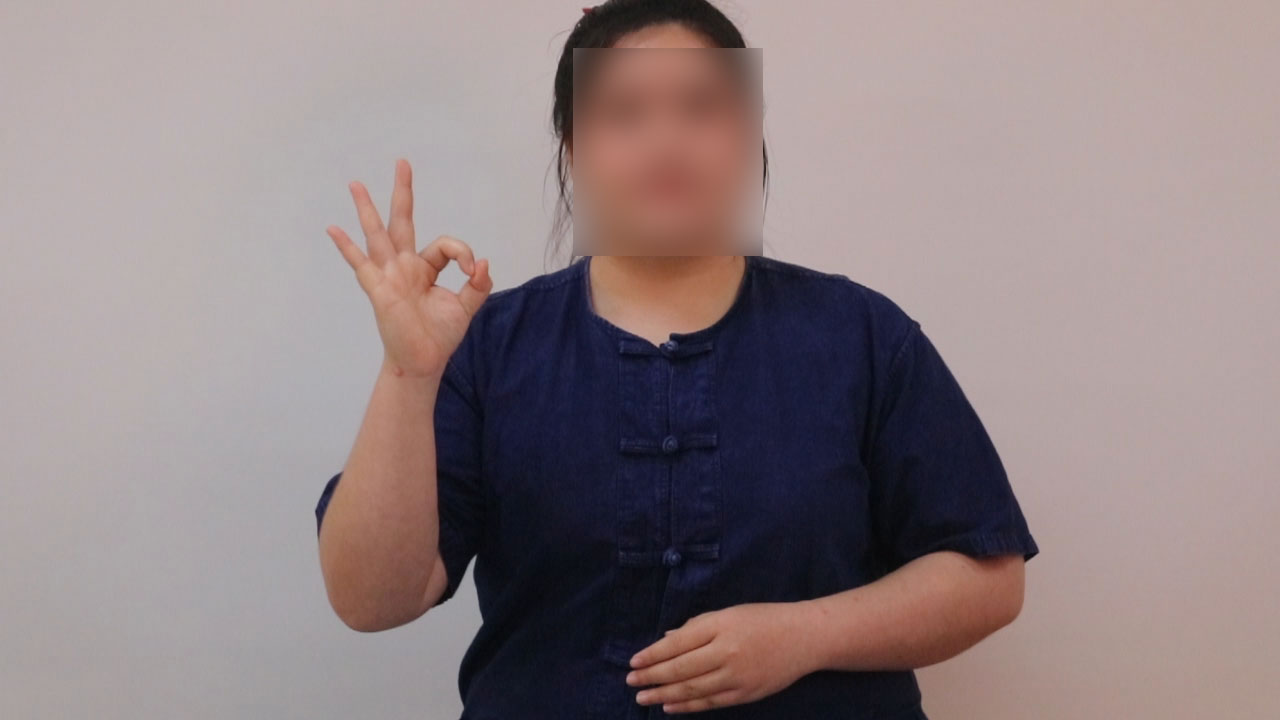for: (320, 145, 500, 382)
